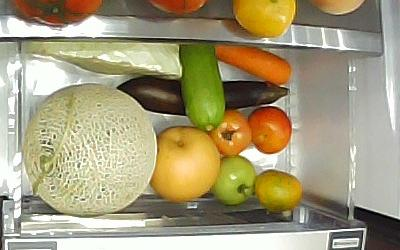cabbage: (25, 43, 181, 80)
carrot: (213, 43, 293, 86)
eggplant: (114, 75, 292, 116)
melon: (22, 84, 157, 218)
pear: (150, 126, 220, 204)
prune: (248, 106, 293, 156)
tangerine: (253, 170, 304, 213)
tomato: (212, 156, 257, 205), (209, 110, 252, 157)
zucchini: (180, 43, 226, 133)
